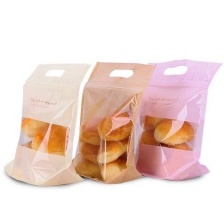snack: (0, 57, 96, 190), (66, 57, 160, 187), (130, 54, 224, 184)
